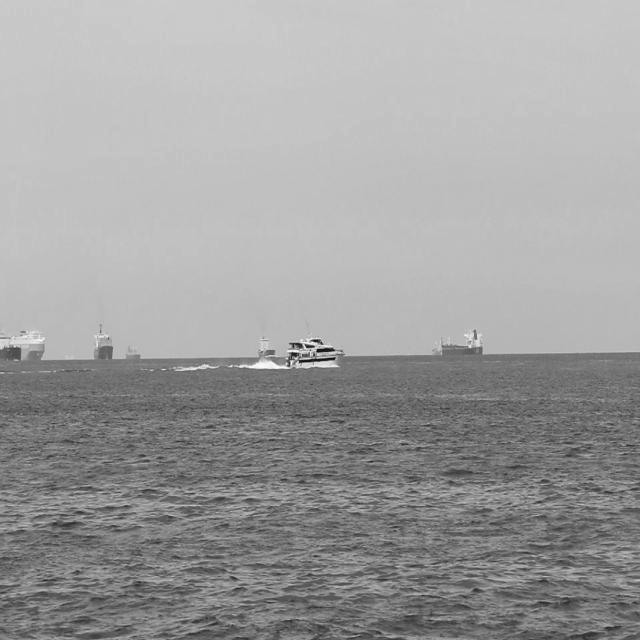ship: (282, 336, 346, 368), (426, 325, 483, 355), (5, 329, 44, 356), (92, 317, 112, 365), (256, 329, 276, 357), (1, 336, 20, 364), (125, 338, 144, 363)
